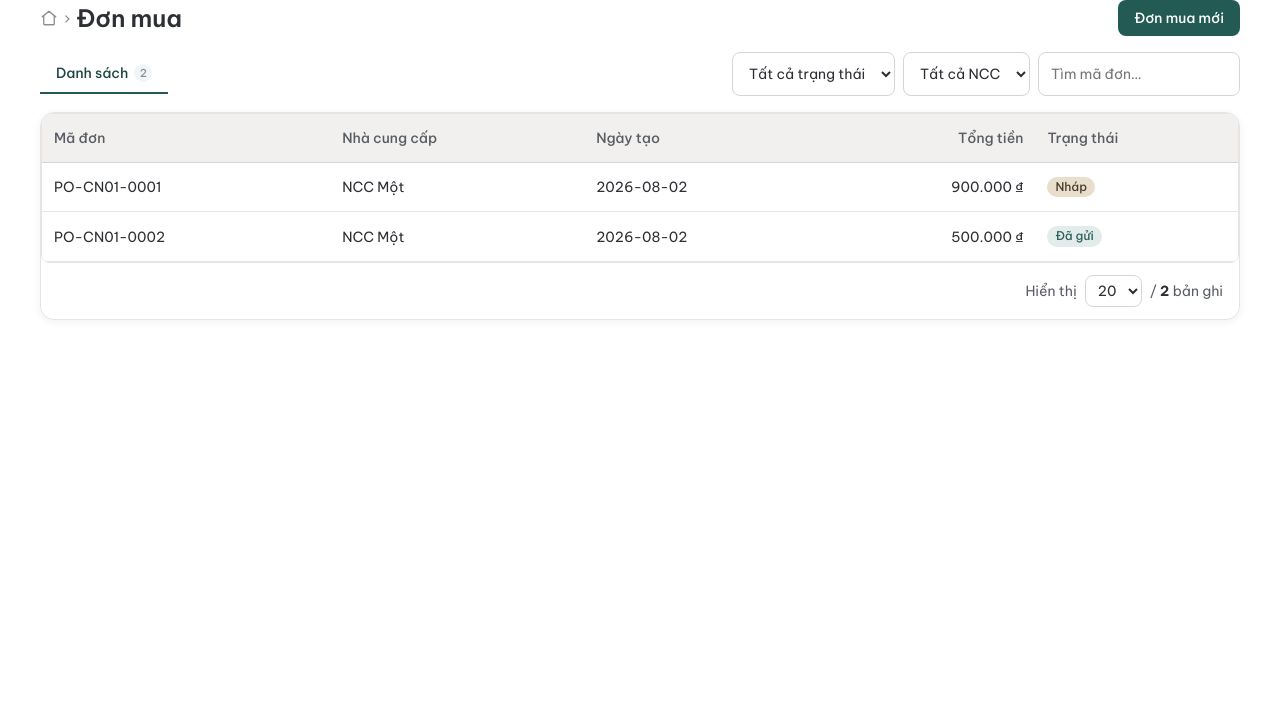
Scenario: PurchaseOrdersPage › opens the create dialog with a line editor and computes a running total
Check: the text "PO-CN01-0001" is shown, box [42, 162, 330, 212]
Step 1. Click the button "Đơn mua mới" → (1179, 18), box [1118, 0, 1240, 36]
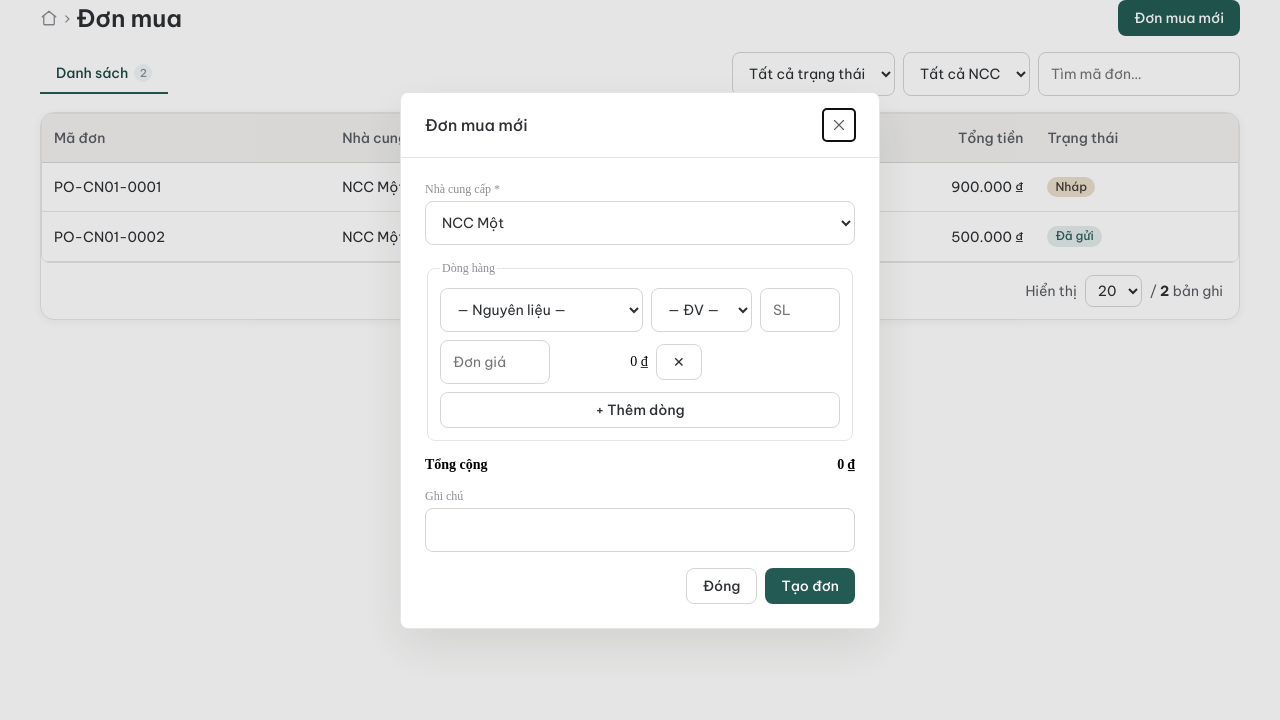
Check: the dropdown named "Nguyên liệu 1" is shown
Step 2. Select "ing-1" in the dropdown named "Nguyên liệu 1" → (541, 310), box [440, 288, 643, 332]
Step 3. Select "u-thung" in the dropdown named "Đơn vị 1" → (701, 310), box [651, 288, 752, 332]
Step 4. Type "2.5" into the number field named "Số lượng 1" → (800, 310), box [760, 288, 840, 332]
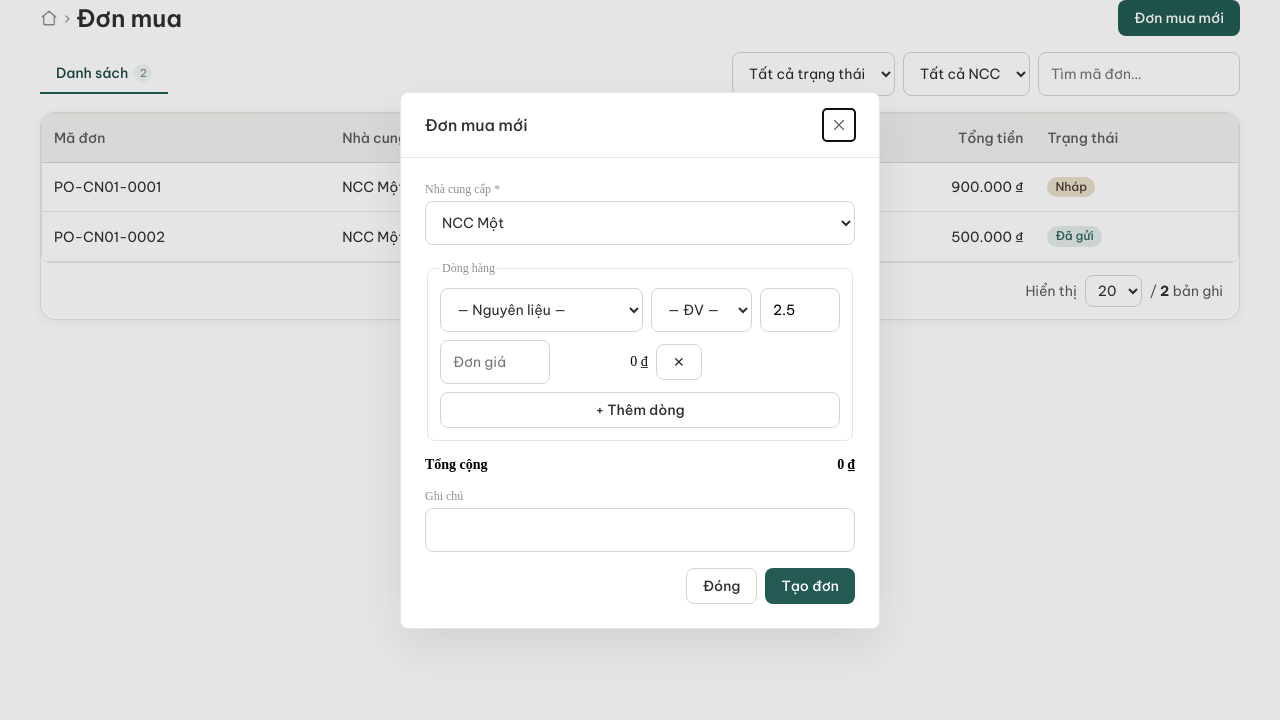
Step 5. Type "300000" into the number field named "Đơn giá 1" → (495, 362), box [440, 340, 550, 384]
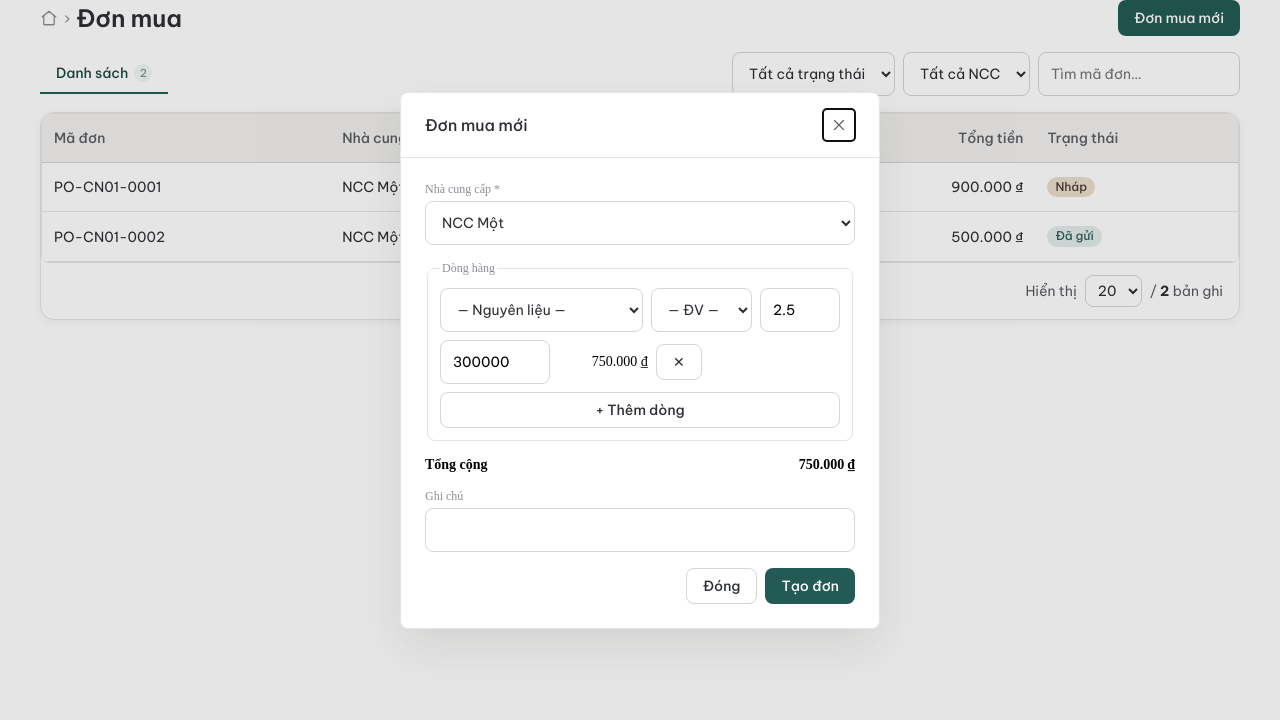
Check: the text "750.000 ₫" below "Dòng hàng" is shown, box [592, 354, 648, 368]
